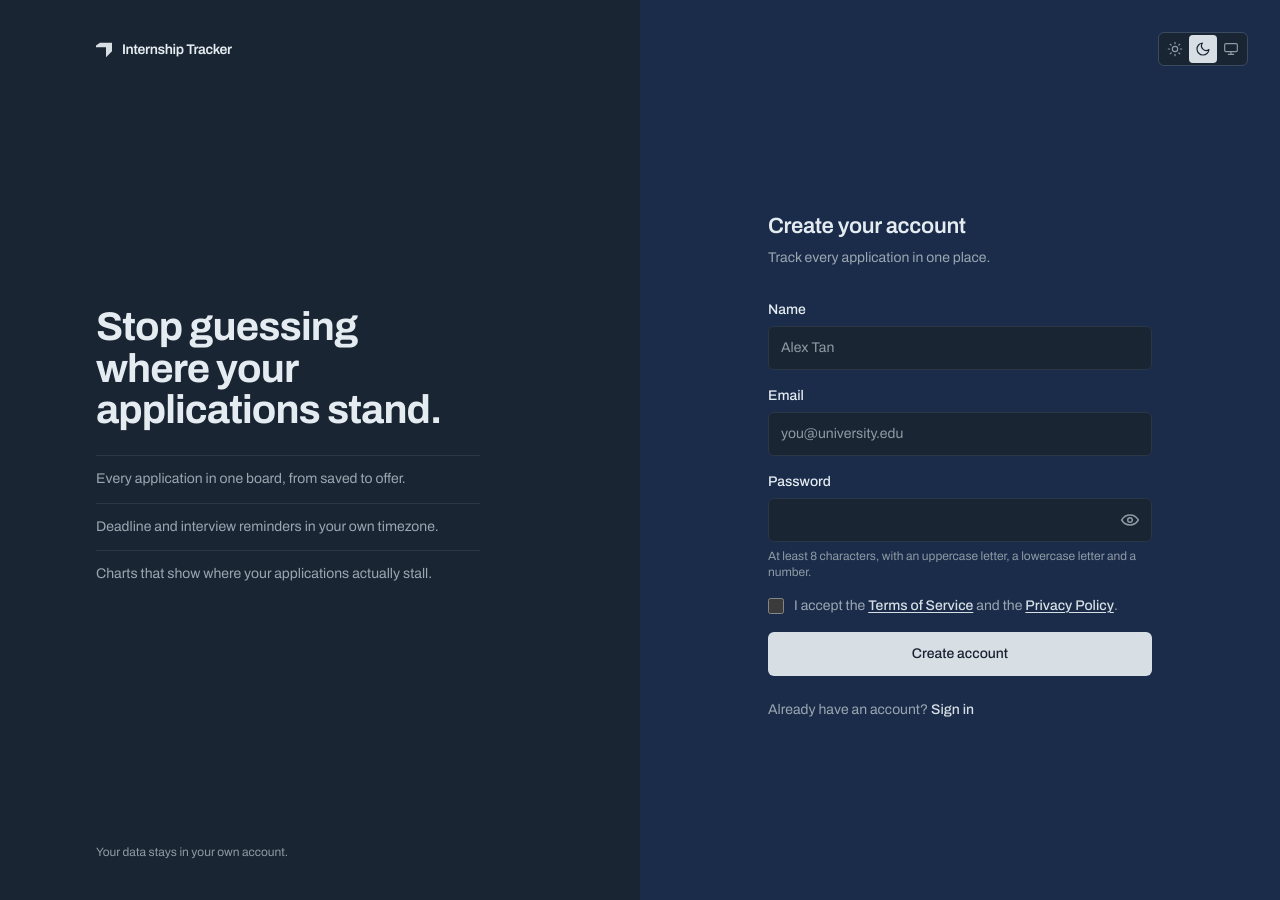
Test: the auth pages link their logo back to the landing page › actually reaches the landing page from the aside lockup
Step 1. Click the link "Internship Tracker" → (164, 50), box left=96, top=40, right=232, bottom=60
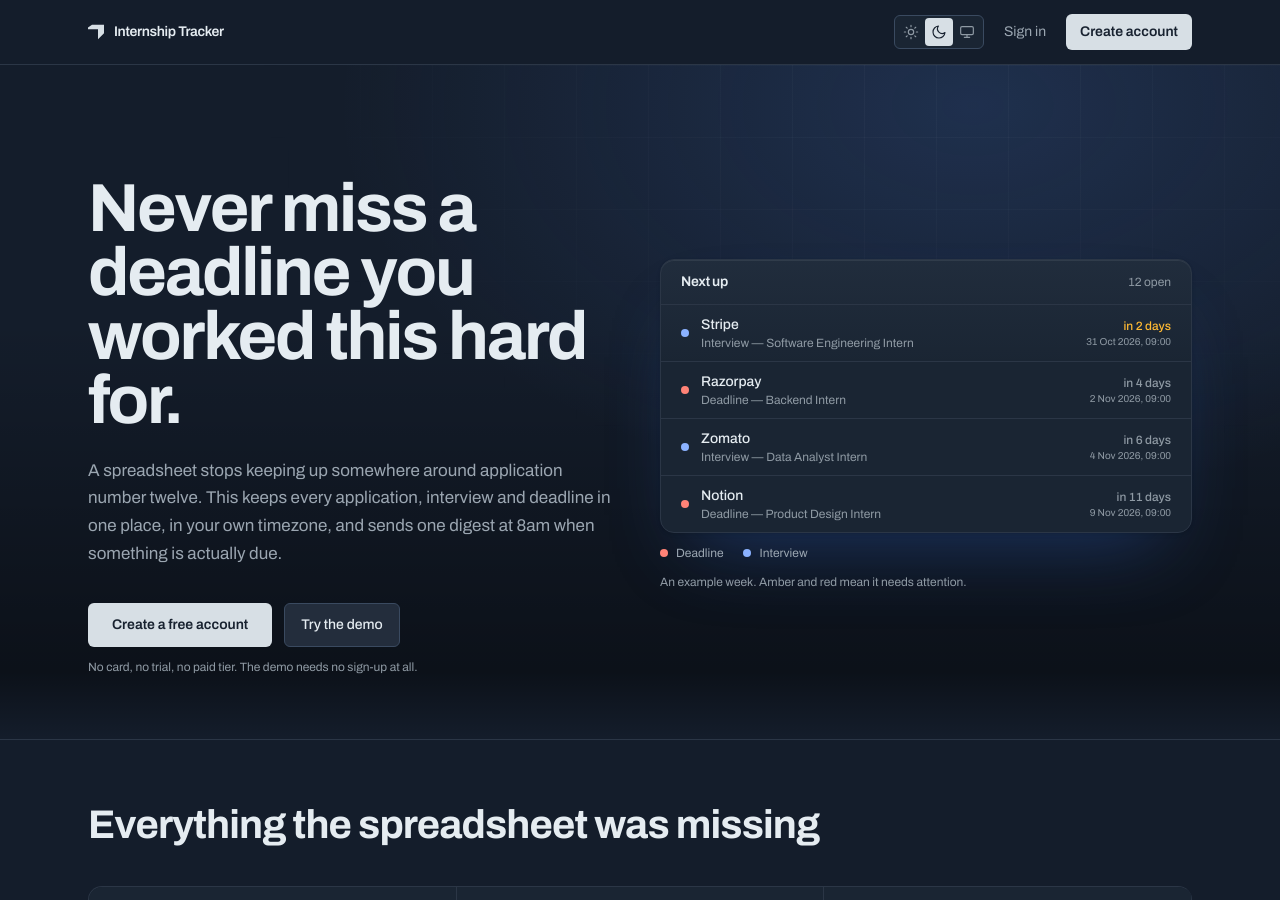
Check: the heading "Never miss a deadline you worked this hard for." is shown, box left=88, top=177, right=614, bottom=433
